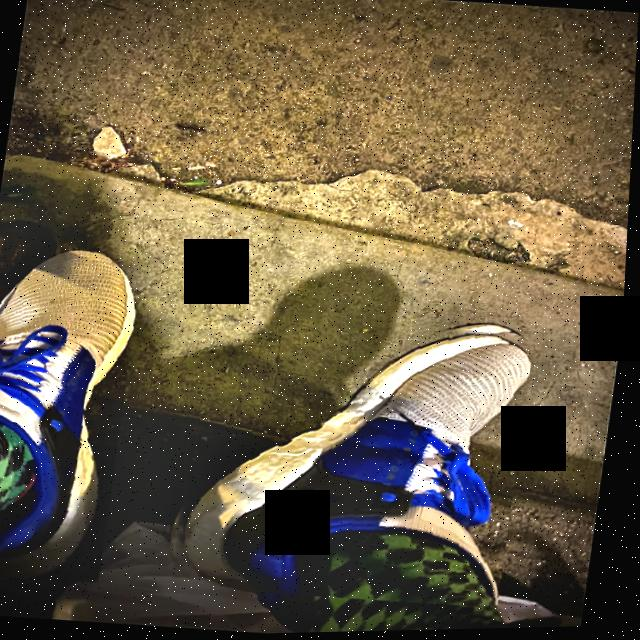shoe: (160, 297, 541, 616), (0, 239, 147, 587)
